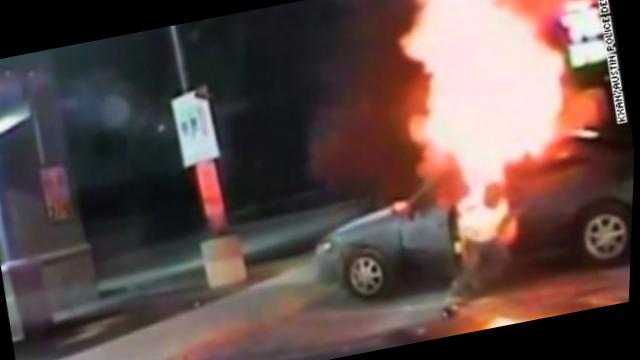fire: (333, 0, 639, 259)
